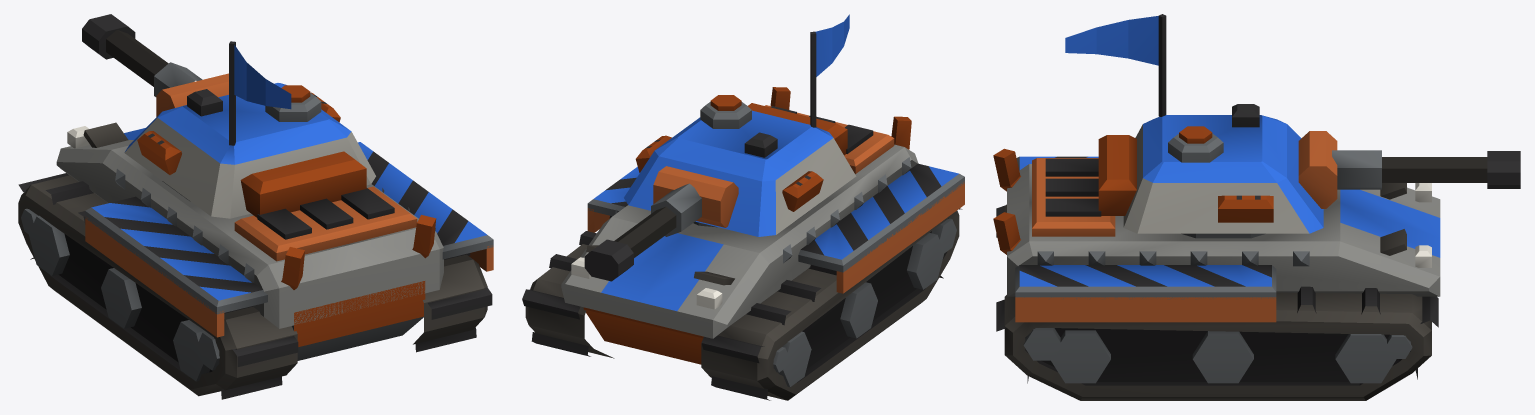
The picture shows the model from 3 angles, left to right: view 1: azimuth 30°, elevation 25°; view 2: azimuth 150°, elevation 25°; view 3: azimuth 270°, elevation 25°; orthographic projection. The views are drawn at different scales.
Visible parts, largest first — view 1: body, turret, barrel, swayFlag, spinSprocketL; view 2: body, turret, barrel, swayFlag, spinSprocketL; view 3: body, turret, barrel, swayFlag, spinSprocketR, spinIdlerR.
Part boxes in pixels (bbox=[...]): body: bbox=[18, 122, 493, 399]; turret: bbox=[124, 41, 375, 218]; barrel: bbox=[82, 14, 202, 96]; swayFlag: bbox=[234, 45, 291, 109]; spinSprocketL: bbox=[198, 332, 219, 370]; body: bbox=[522, 87, 964, 400]; turret: bbox=[624, 31, 856, 236]; barrel: bbox=[584, 183, 701, 281]; swayFlag: bbox=[815, 14, 849, 76]; spinSprocketL: bbox=[931, 218, 956, 253]; body: bbox=[993, 148, 1440, 400]; turret: bbox=[1098, 14, 1337, 238]; barrel: bbox=[1332, 150, 1520, 189]; swayFlag: bbox=[1065, 16, 1158, 65]; spinSprocketR: bbox=[1023, 328, 1062, 360]; spinIdlerR: bbox=[1385, 335, 1412, 358].
Bounding box in the file's own units: 1.14 × 1.2 × 1.9.
